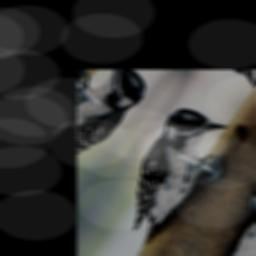Woodpecker: (95, 97, 238, 252)
